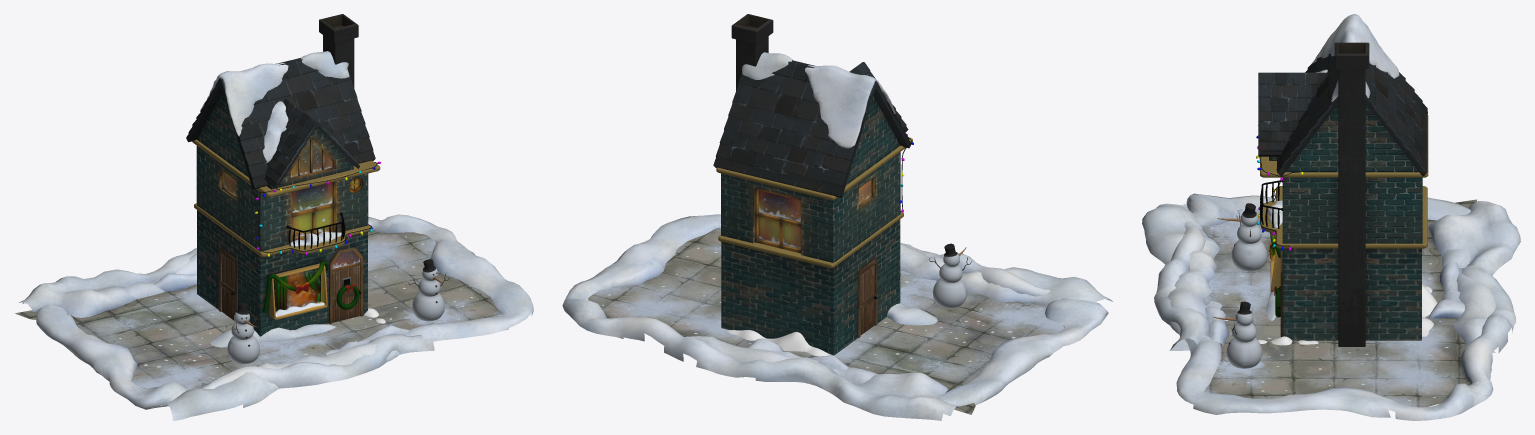
File: Snow_building.fbx
3 renders of one model, left to right at view 1: azimuth 30°, elevation 25°; view 2: azimuth 150°, elevation 25°; view 3: azimuth 270°, elevation 25°, orthographic. The views are drawn at different scales.
Visible parts, largest first — view 1: Mesh_2, Mesh_1.006, Mesh_1.005, Mesh_1.001, Mesh_0.004, Mesh_0, Mesh_0.001; view 2: Mesh_2, Mesh_1.006, Mesh_1.005, Mesh_1.001, Mesh_0, Mesh_1.007; view 3: Mesh_2, Mesh_1.006, Mesh_1.005, Mesh_1.001, Mesh_0, Mesh_0.004, Mesh_1.007, Mesh_0.001.
Boxes of the visible parts, x1,y1,x2,y2 form: Mesh_2: (186, 14, 380, 336); Mesh_1.006: (19, 214, 533, 420); Mesh_1.005: (15, 230, 502, 408); Mesh_1.001: (200, 51, 349, 316); Mesh_0.004: (408, 259, 449, 321); Mesh_0: (227, 302, 262, 363); Mesh_0.001: (254, 161, 381, 256); Mesh_2: (713, 14, 912, 355); Mesh_1.006: (562, 214, 1112, 420); Mesh_1.005: (589, 227, 1064, 414); Mesh_1.001: (742, 52, 895, 148); Mesh_0: (929, 243, 971, 308); Mesh_1.007: (727, 330, 832, 356); Mesh_2: (1258, 42, 1428, 346); Mesh_1.006: (1142, 193, 1520, 420); Mesh_1.005: (1202, 199, 1477, 407); Mesh_1.001: (1267, 14, 1399, 265); Mesh_0: (1217, 203, 1267, 271); Mesh_0.004: (1212, 301, 1262, 368); Mesh_1.007: (1422, 284, 1437, 336); Mesh_0.001: (1256, 125, 1303, 250).
Bounding box in the file's own units: 6202 × 3961 × 4515.
